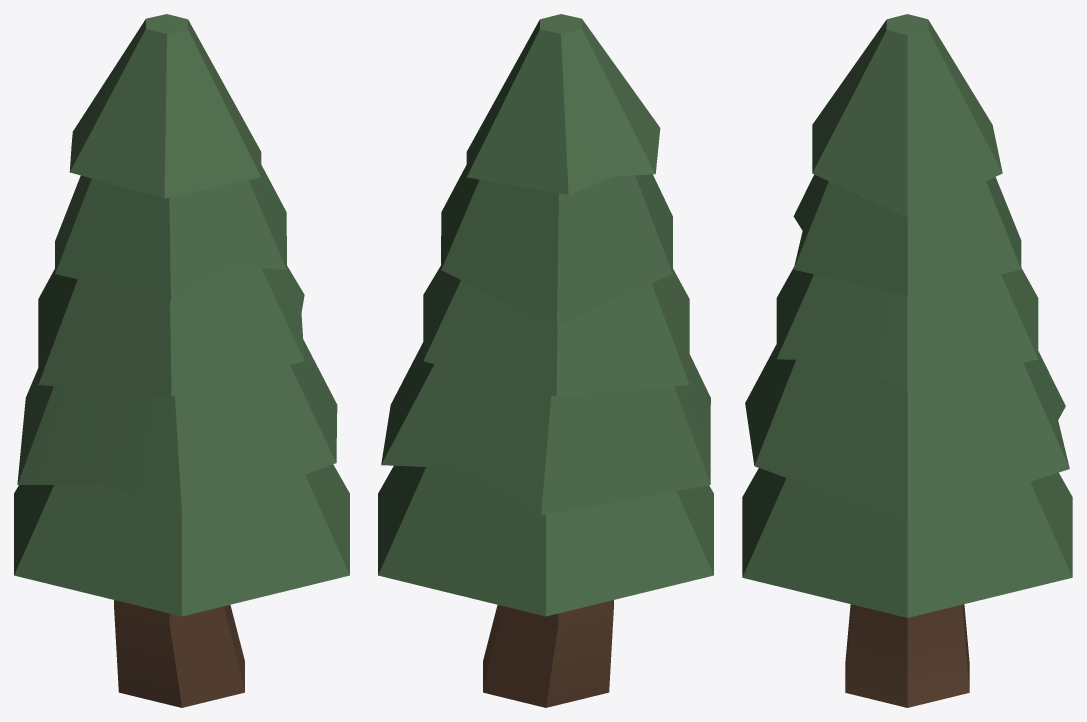
File: PineTreeBlockout.fbx
3 renders of one model, left to right at view 1: azimuth 30°, elevation 25°; view 2: azimuth 150°, elevation 25°; view 3: azimuth 270°, elevation 25°, orthographic.
Visible parts, largest first — view 1: PineTreeBlockout2; view 2: PineTreeBlockout2; view 3: PineTreeBlockout2.
Boxes of the visible parts, <box> form: PineTreeBlockout2: <box>14,14,349,707</box>; PineTreeBlockout2: <box>378,14,713,707</box>; PineTreeBlockout2: <box>742,14,1072,707</box>.
Size of the model in its own units: 433 by 809 by 375.
